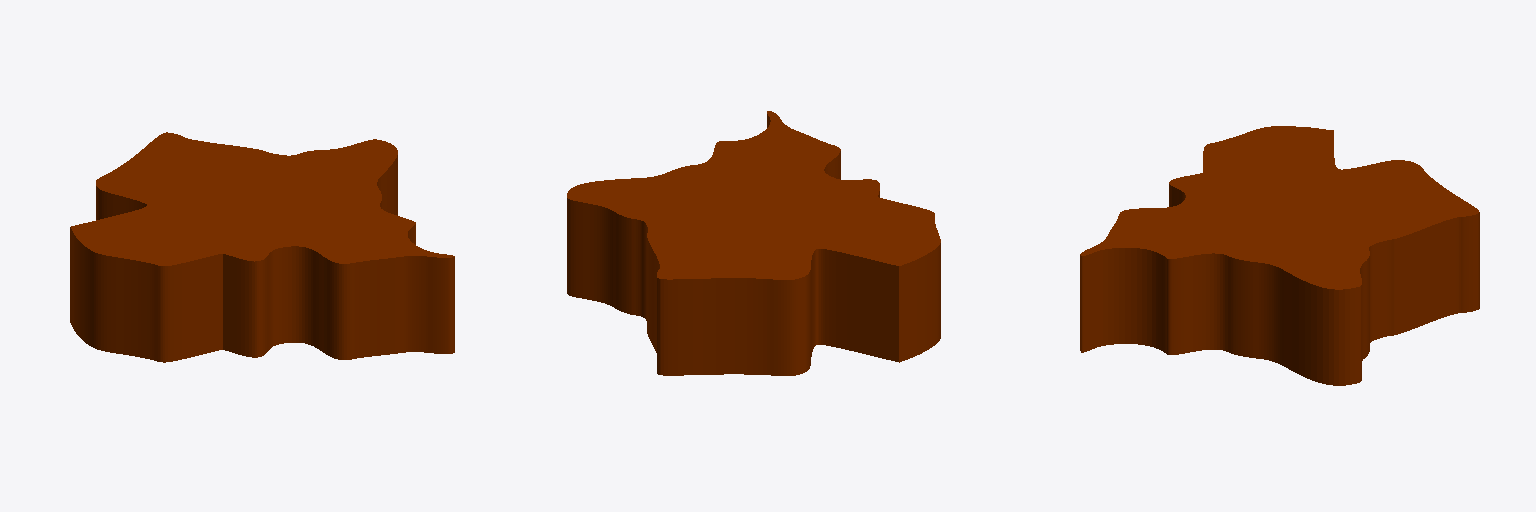
File: Africa_01.obj
3 views of the same model, side by side, from view 1: azimuth 30°, elevation 25°; view 2: azimuth 150°, elevation 25°; view 3: azimuth 270°, elevation 25° (orthographic).
Visible parts, largest first — view 1: Africa_01_path4220; view 2: Africa_01_path4220; view 3: Africa_01_path4220.
Boxes of the visible parts, x1,y1,x2,y2 form: Africa_01_path4220: [70, 132, 454, 362]; Africa_01_path4220: [567, 111, 940, 375]; Africa_01_path4220: [1080, 126, 1479, 385].
Bounding box in the file's own units: 0.3644 × 0.1 × 0.376.